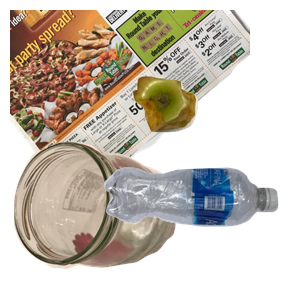glass: (11, 139, 179, 300)
paper: (10, 10, 250, 190)
plastic: (102, 165, 300, 300)
trash: (130, 74, 300, 199)
